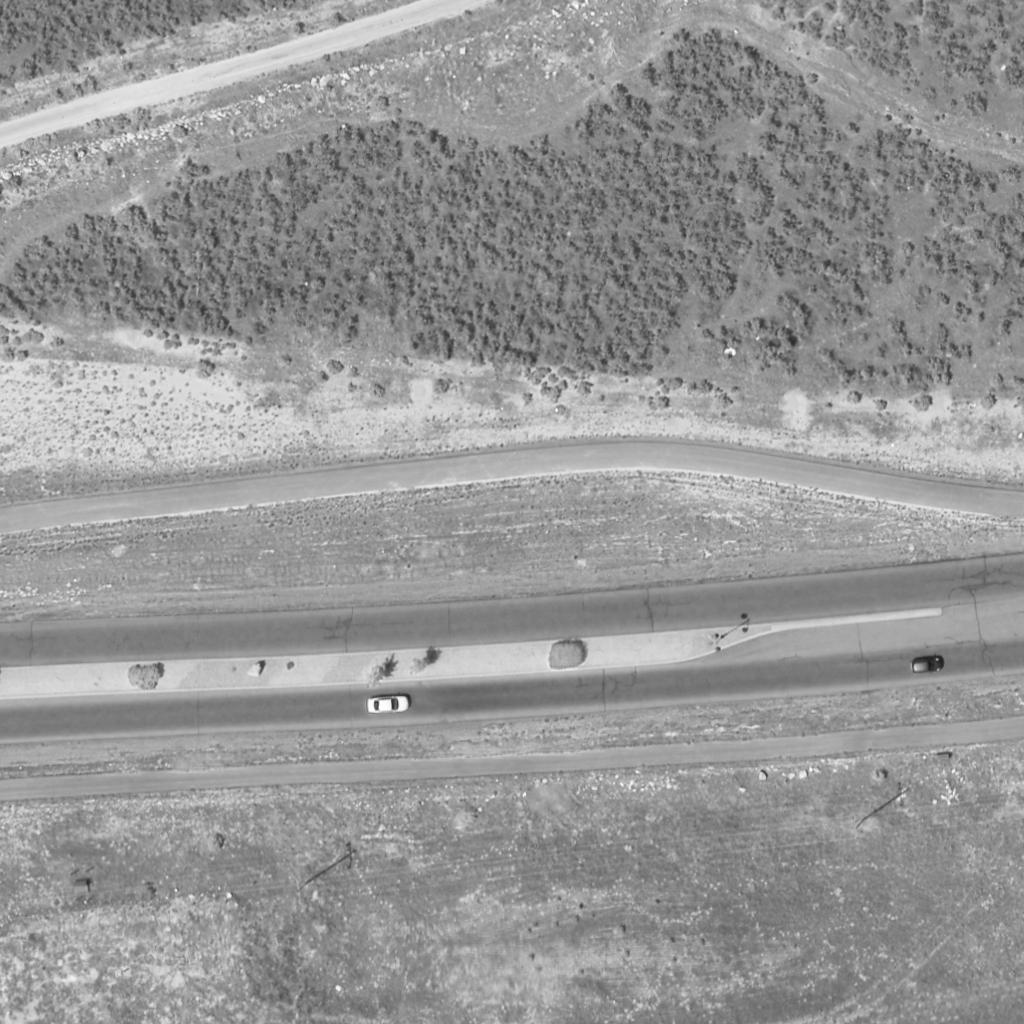vehicle: (366, 695, 412, 715), (911, 658, 943, 672)
